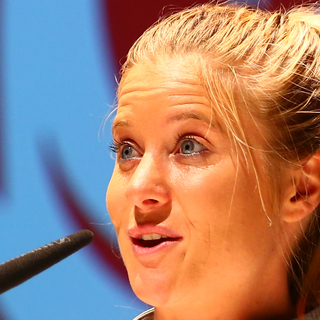eye: (171, 134, 214, 161), (106, 139, 142, 165)
